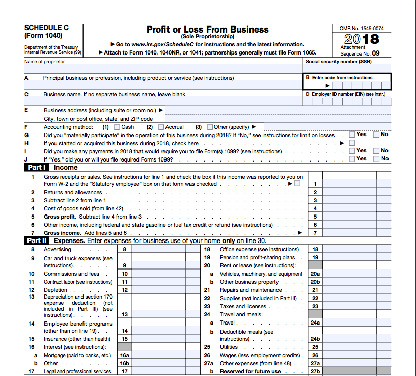checkbox: (113, 123, 121, 131), (157, 123, 165, 131), (348, 130, 356, 138), (372, 130, 380, 138), (348, 138, 356, 146), (348, 146, 356, 154), (372, 146, 380, 154), (372, 154, 380, 162), (348, 154, 356, 162), (293, 179, 301, 187), (206, 123, 214, 130)
textbox: (22, 54, 304, 75), (22, 71, 304, 92), (23, 87, 305, 107), (301, 72, 394, 92), (301, 56, 394, 75), (302, 88, 394, 107), (130, 292, 187, 321), (130, 316, 188, 336), (321, 259, 378, 279), (321, 324, 379, 343), (130, 340, 188, 359), (321, 169, 378, 188), (130, 251, 187, 270), (321, 308, 378, 327), (321, 185, 378, 197), (321, 193, 378, 205), (321, 217, 378, 229), (321, 242, 378, 254), (321, 251, 378, 263), (321, 275, 378, 287), (321, 283, 378, 295), (321, 299, 378, 311), (321, 340, 378, 352), (321, 348, 378, 360), (321, 356, 378, 368), (131, 243, 188, 255), (131, 267, 188, 279), (130, 275, 187, 287), (130, 283, 187, 295), (130, 332, 187, 344), (130, 356, 187, 368), (321, 202, 378, 213), (321, 210, 378, 221), (321, 226, 378, 237), (321, 291, 378, 302), (322, 364, 379, 375), (131, 364, 188, 375), (184, 292, 202, 320), (374, 259, 394, 278), (374, 308, 394, 327), (374, 324, 394, 343), (184, 316, 203, 335), (375, 170, 394, 189), (184, 250, 202, 270), (184, 341, 203, 359), (183, 267, 202, 279), (375, 185, 394, 197), (374, 242, 393, 254), (374, 250, 393, 262), (374, 283, 393, 295), (374, 300, 393, 312), (374, 340, 393, 352), (184, 275, 202, 287), (184, 356, 202, 368), (184, 364, 202, 376), (375, 193, 393, 205), (375, 217, 393, 229), (375, 274, 393, 286), (375, 291, 393, 303), (375, 348, 393, 360), (375, 356, 393, 368), (375, 364, 393, 376), (183, 332, 202, 343), (374, 226, 393, 237), (184, 243, 202, 254), (184, 284, 202, 295), (375, 202, 393, 213), (375, 210, 393, 221)
textline: (162, 113, 394, 123), (163, 106, 394, 116), (262, 122, 395, 132)
